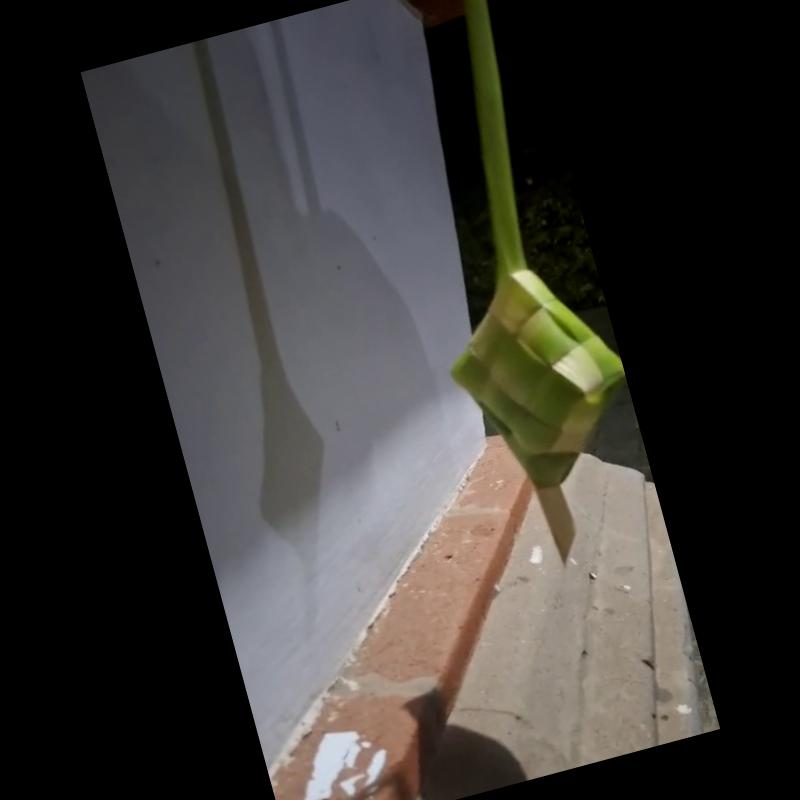Tipat Nasi: (453, 264, 627, 563)
